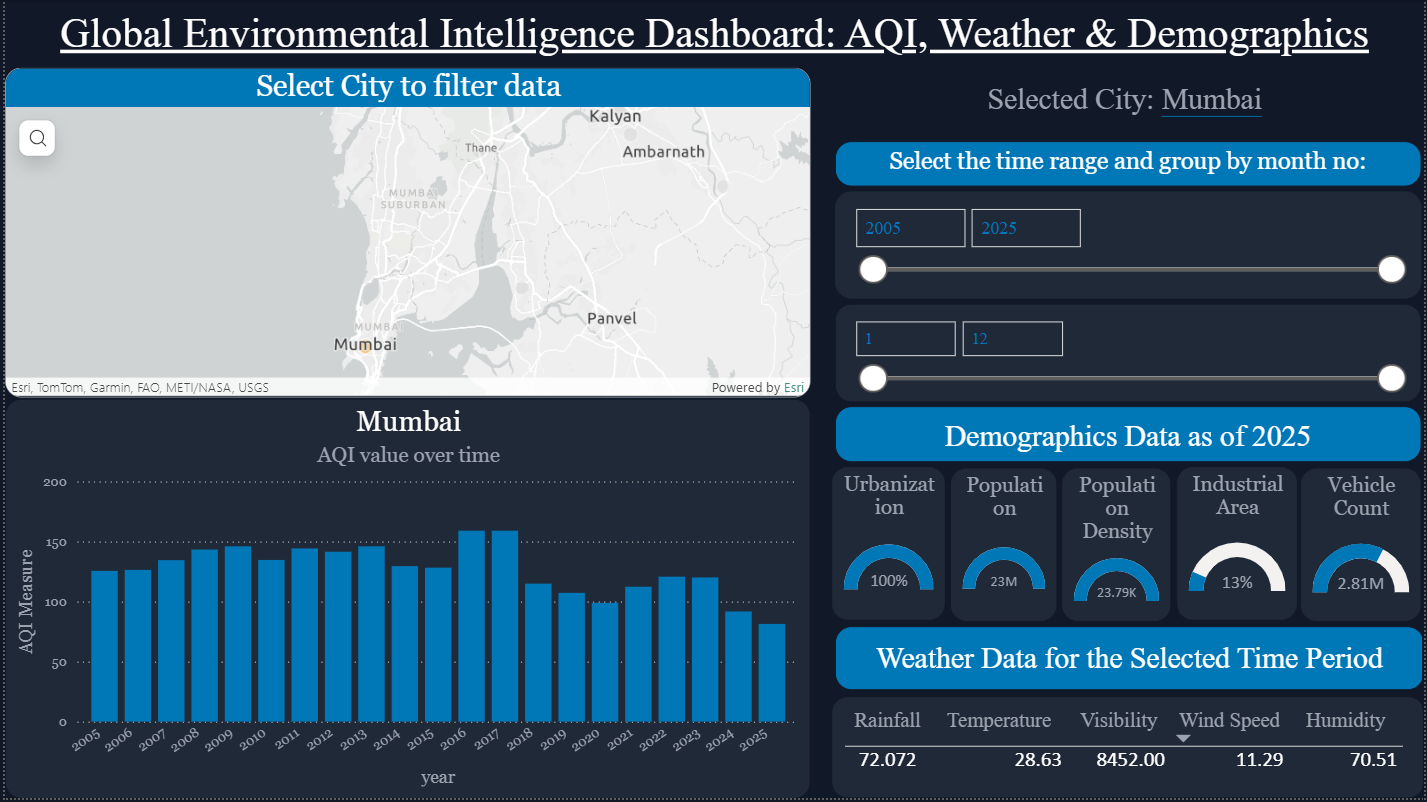

What the dashboard file says about the page in this screenshot:
{"tool":"powerbi","page":{"name":"General","canvas":[1280,720],"ordinal":0},"visuals":[{"type":"group","id":"g1","title":"Group 1","box":[745.1,420.8,532.4,140.6],"z":0},{"type":"gauge","title":"Vehicle Count","fields":{"Y":["Sum(Demographics.Vehicle Count)"],"MaxValue":["Demographics.Max Vehicle Count"]},"box":[1168,422,109.5,139.3],"z":0,"group":"g1"},{"type":"columnChart","fields":{"Category":["Date_Dimension.year Hierarchy.year","Date_Dimension.year Hierarchy.month"],"Y":["AQI_Data.Measure"]},"box":[0,359.5,726.5,360.7],"z":1000},{"type":"gauge","fields":{"Y":["Sum(Demographics.Industrial Area)"]},"box":[1056.1,420.8,109.5,139.3],"z":1000,"group":"g1"},{"type":"esriVisual","title":"Select City to filter data","fields":{"Location":["Location.Location"]},"box":[0,61,726.5,297.3],"z":2000},{"type":"gauge","title":"Population Density","fields":{"Y":["Sum(Demographics.Population Density)"],"MaxValue":["Demographics.Max Population Density"]},"box":[952.8,422,99.5,139.3],"z":2000,"group":"g1"},{"type":"slicer","fields":{"Values":["Date_Dimension.year"]},"box":[748.4,172.4,528.6,96.9],"z":3000},{"type":"gauge","title":"Population","fields":{"Y":["Sum(Demographics.Population)"],"MaxValue":["Demographics.Max Population"]},"box":[852.1,422,97,139.3],"z":3000,"group":"g1"},{"type":"gauge","fields":{"Y":["Sum(Demographics.Urbanization)"]},"box":[745.1,420.8,103.2,139.3],"z":4000,"group":"g1"},{"type":"tableEx","fields":{"Values":["Avg(Weather.Rainfall)","Avg(Weather.Temperature)","Avg(Weather.Visibility)","Avg(Weather.Wind Speed)","Avg(Weather.Humidity)"]},"box":[745.1,628.2,534.9,92.1],"z":4000},{"type":"textbox","box":[748.4,366.3,528.6,50.7],"z":5000},{"type":"textbox","box":[748.9,564.8,531.2,57.2],"z":6000},{"type":"textbox","box":[748.9,59.7,522.5,64.7],"z":7000},{"type":"textbox","box":[0,0,1280,61.4],"z":8000},{"type":"slicer","fields":{"Values":["Date_Dimension.month_number"]},"box":[748.4,273.9,528.6,89],"z":9000},{"type":"textbox","box":[748.9,126.9,528.7,41.1],"z":10000}]}

Visuals, with their boxes in screenshot pixels (x1, y1, x2, y2), scaled from the page's 1280x720 canvas onto the 1427x802 screenshot:
"Group 1" group: Rect(831, 469, 1424, 625)
"Vehicle Count" gauge: Rect(1302, 470, 1424, 625)
columnChart - Date_Dimension.year Hierarchy.year x Date_Dimension.year Hierarchy.month: Rect(0, 400, 810, 801)
gauge - Sum(Demographics.Industrial Area): Rect(1177, 469, 1299, 624)
"Select City to filter data" esriVisual: Rect(0, 68, 810, 399)
"Population Density" gauge: Rect(1062, 470, 1173, 625)
slicer - Date_Dimension.year: Rect(834, 192, 1424, 300)
"Population" gauge: Rect(950, 470, 1058, 625)
gauge - Sum(Demographics.Urbanization): Rect(831, 469, 946, 624)
tableEx - Avg(Weather.Rainfall) x Avg(Weather.Temperature): Rect(831, 700, 1426, 801)
textbox: Rect(834, 408, 1424, 464)
textbox: Rect(835, 629, 1426, 693)
textbox: Rect(835, 66, 1417, 139)
textbox: Rect(0, 0, 1426, 68)
slicer - Date_Dimension.month_number: Rect(834, 305, 1424, 404)
textbox: Rect(835, 141, 1424, 187)
